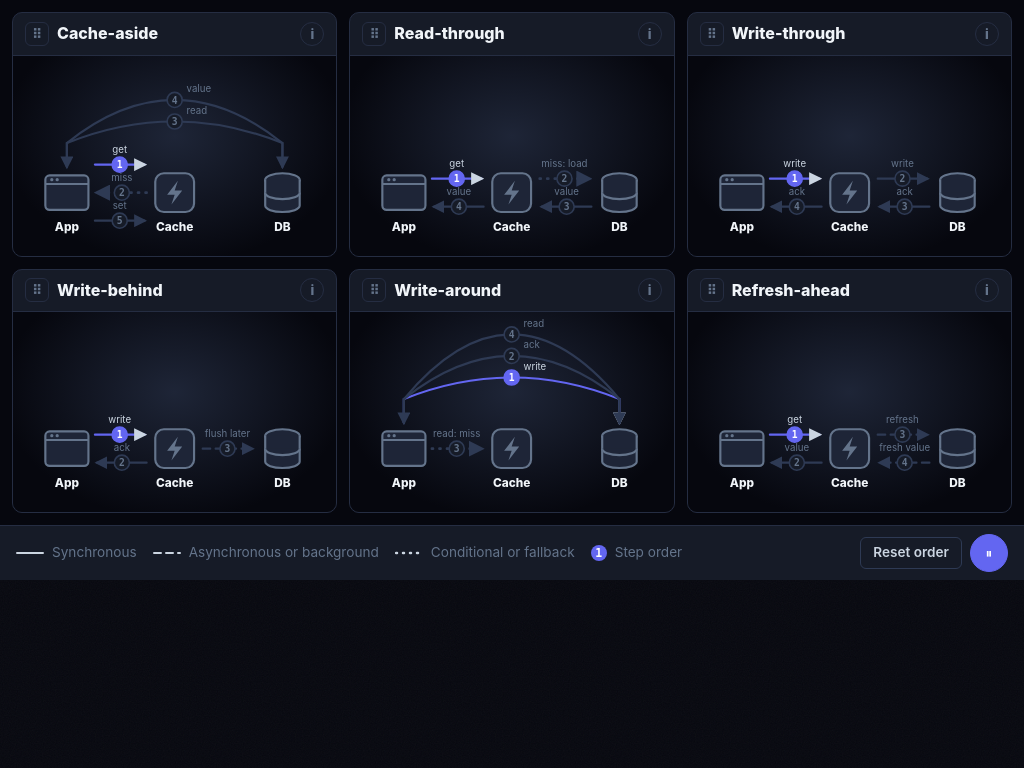
Test: RevisionView › the popup works for a flow card too
The image size is (1024, 768).
Click the button named "About Write-behind": (312, 290) [300,278,324,302]
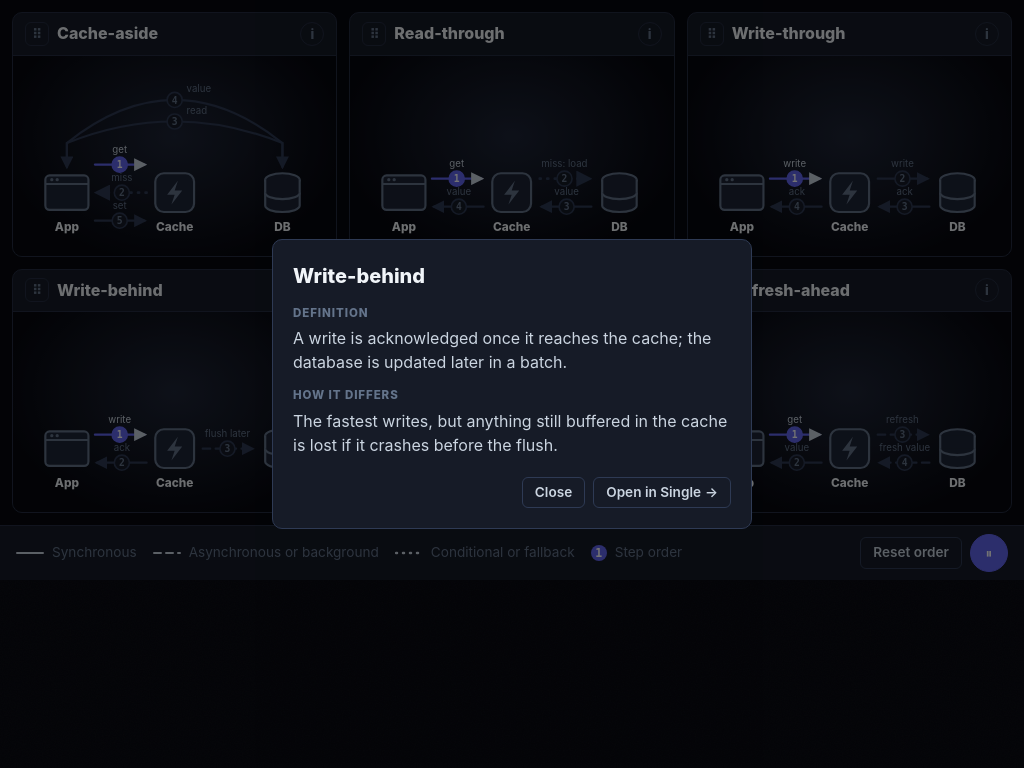
Result: the dialog named "About Write-behind" is shown at [272,239,752,529]
